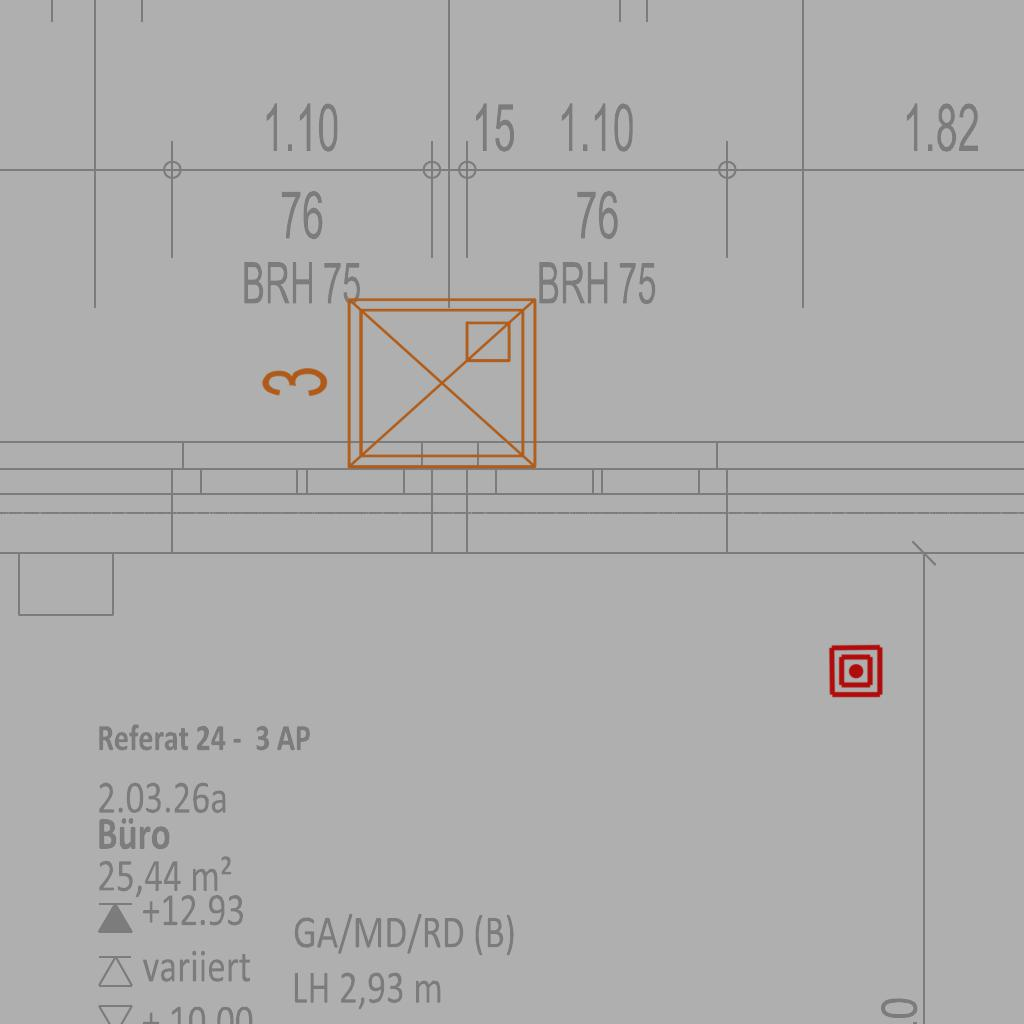Einbaudownlights_LED_Konferenzraeume: (251, 283, 551, 491)
NAM-Nichtautomatischer_Melder: (828, 643, 884, 699)
